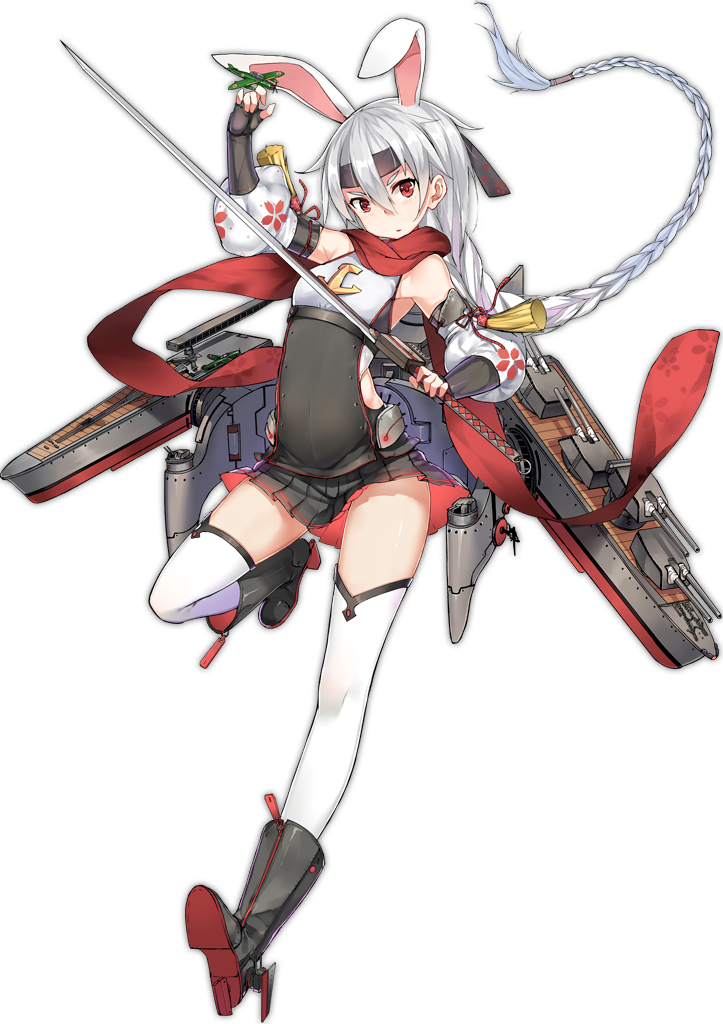person: (1, 5, 717, 1023)
